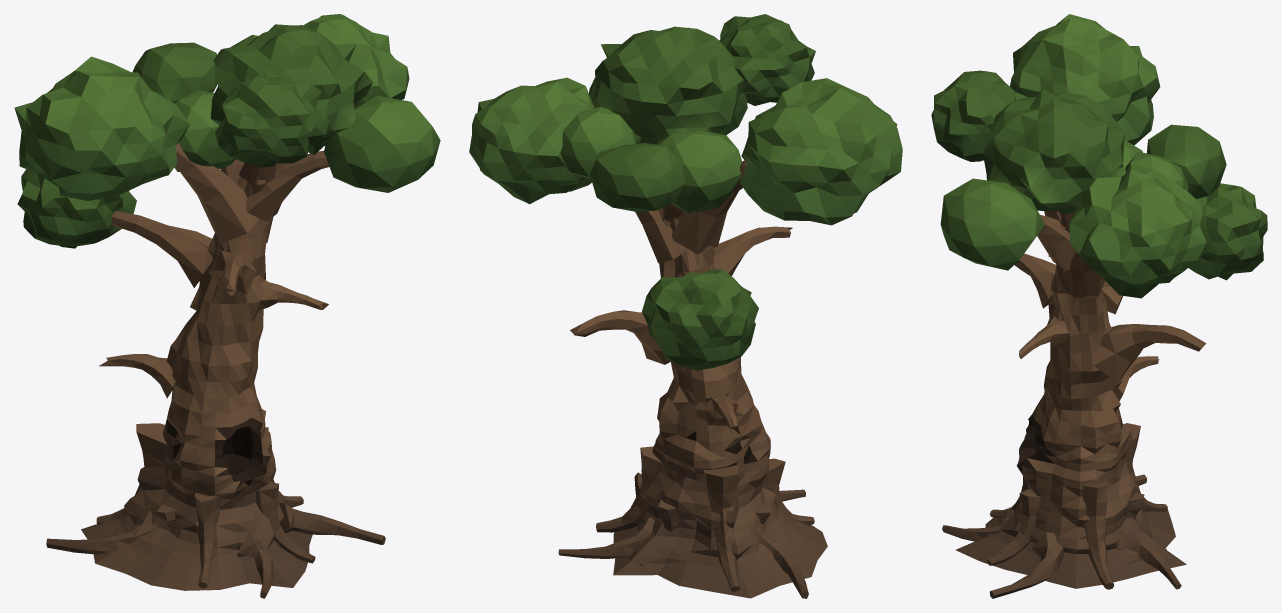
The model's file is hollow-tree.glb.
The picture shows the model from 3 angles, left to right: view 1: azimuth 30°, elevation 25°; view 2: azimuth 150°, elevation 25°; view 3: azimuth 270°, elevation 25°; orthographic projection. The views are drawn at different scales.
Parts seen in each view (by area): view 1: canopy_foliage, trunk; view 2: canopy_foliage, trunk; view 3: canopy_foliage, trunk.
Part boxes in pixels (bbox=[...]): canopy_foliage: bbox=[14, 14, 440, 248]; trunk: bbox=[46, 143, 385, 598]; canopy_foliage: bbox=[469, 14, 902, 370]; trunk: bbox=[558, 160, 827, 598]; canopy_foliage: bbox=[931, 14, 1267, 298]; trunk: bbox=[942, 210, 1206, 598].
Bounding box in the file's own units: 60.36 × 74 × 47.42.
